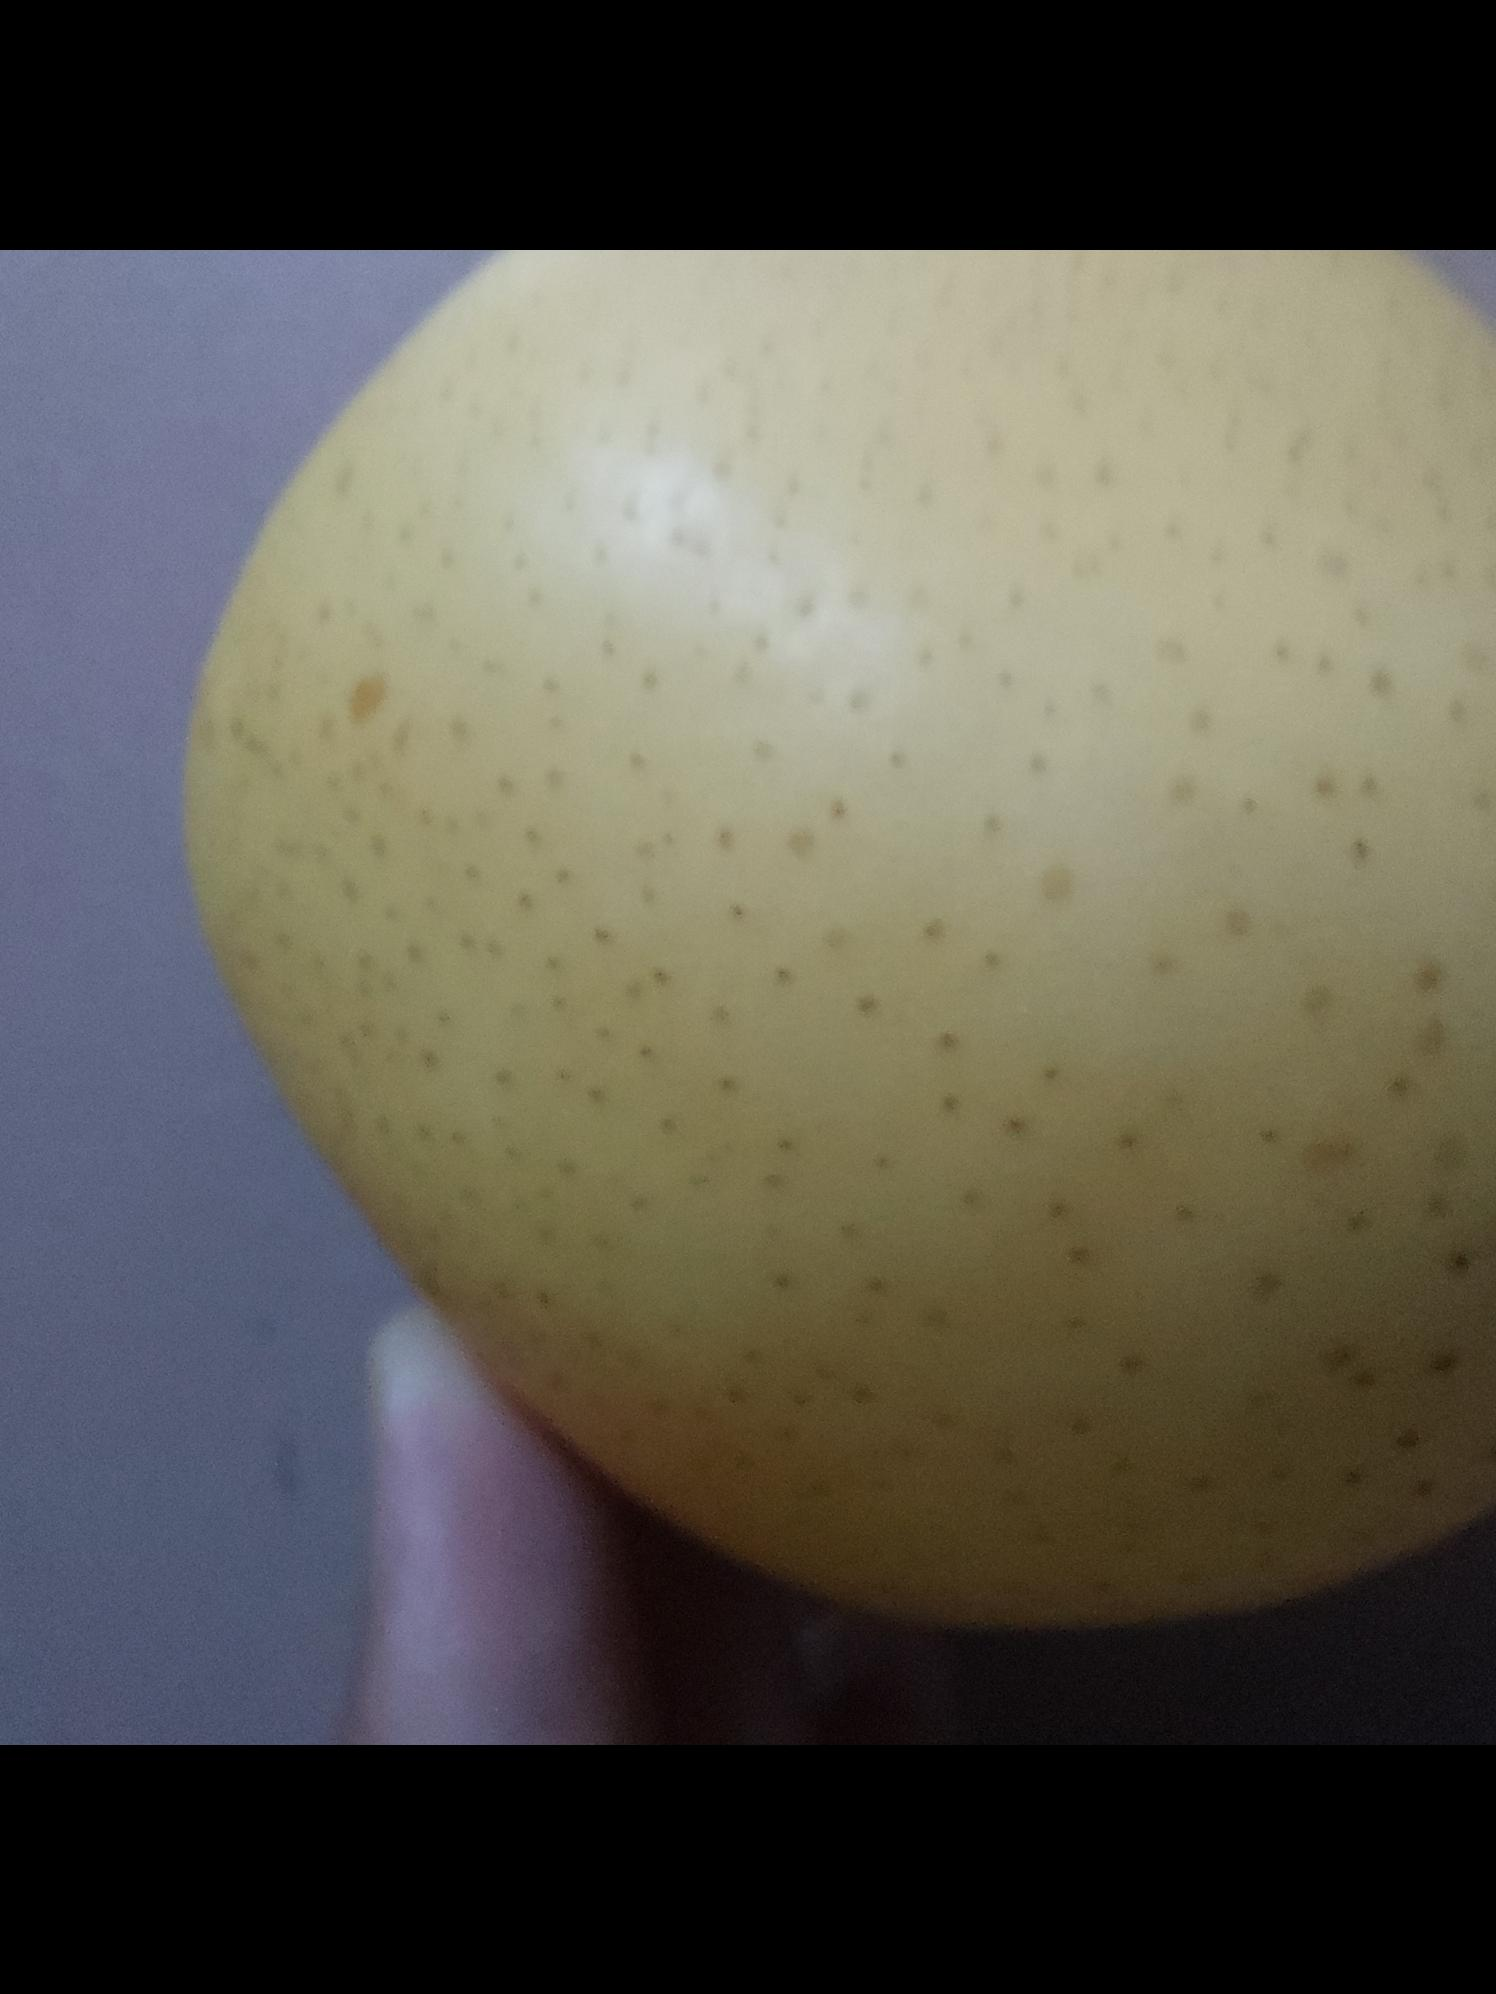Good Pear: (168, 248, 1496, 1634)
